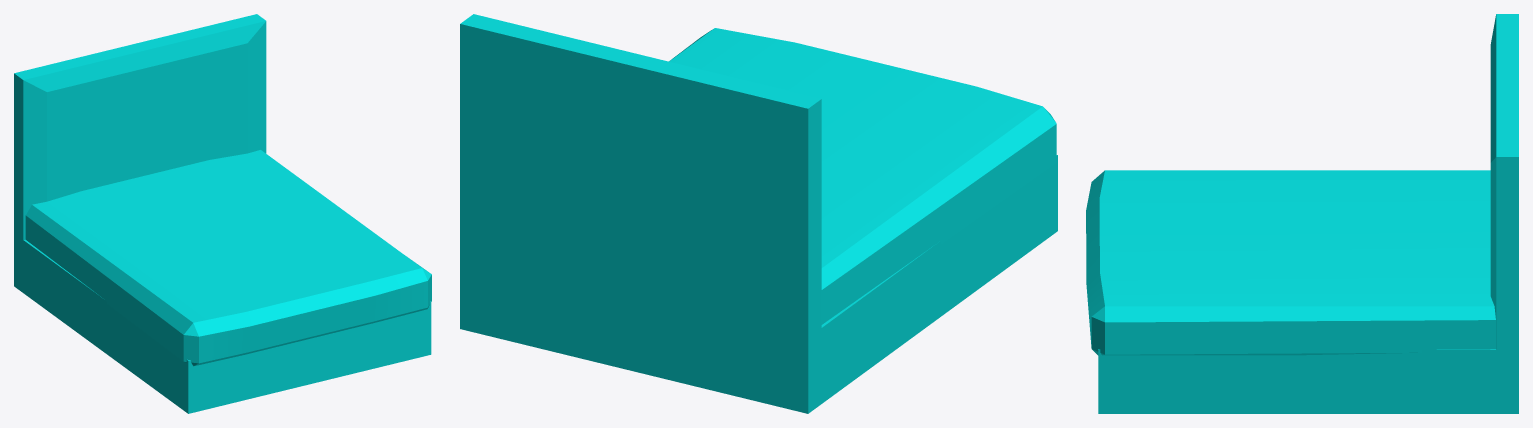
The model's file is SM_Prop_Bed_Double_01_Collision.fbx.
3 views of the same model, side by side, from view 1: azimuth 30°, elevation 25°; view 2: azimuth 150°, elevation 25°; view 3: azimuth 270°, elevation 25° (orthographic). The views are drawn at different scales.
Parts seen in each view (by area): view 1: SM_Prop_Bed_Double_01_Collision; view 2: SM_Prop_Bed_Double_01_Collision; view 3: SM_Prop_Bed_Double_01_Collision.
Boxes of the visible parts, x1=… form: SM_Prop_Bed_Double_01_Collision: x1=14, y1=14, x2=431, y2=413; SM_Prop_Bed_Double_01_Collision: x1=460, y1=14, x2=1057, y2=413; SM_Prop_Bed_Double_01_Collision: x1=1086, y1=14, x2=1518, y2=413.
Bounding box in the file's own units: 204 × 168 × 256.
